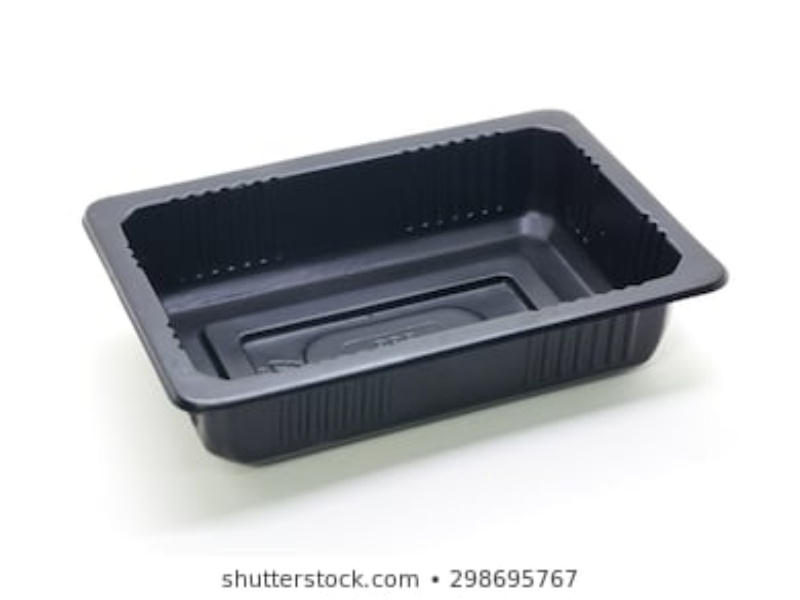plastic-container: (83, 110, 731, 472)
